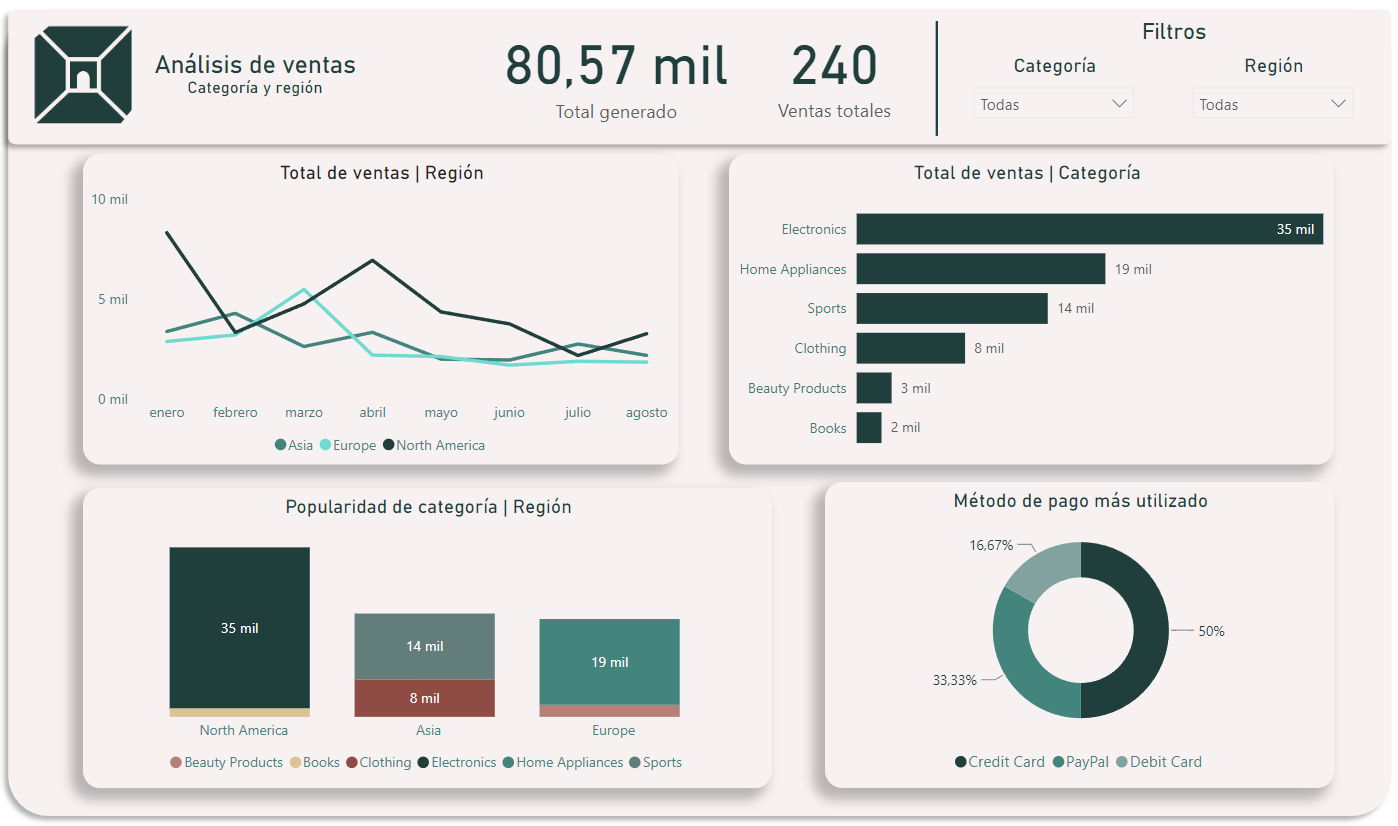

This screenshot's page, from the dashboard's own definition file:
{"tool":"powerbi","page":{"name":"Página 1","canvas":[1280,720],"ordinal":0},"visuals":[{"type":"shape","box":[59,0,1221,719.4],"z":0},{"type":"lineChart","title":"Total de ventas | Región","fields":{"Y":["Sum(public Sales.Total Revenue)"],"Category":["public Sales.Date.Variación.Jerarquía de fechas.Mes"],"Series":["public Sales.Region"]},"box":[133,135,518,270],"z":1000},{"type":"shape","box":[59.3,0,1220.7,135.2],"z":2000},{"type":"image","box":[77.9,12,110.9,110.9],"z":3000},{"type":"barChart","title":"Total de ventas | Categoría","fields":{"Category":["public Sales.Product Category"],"Y":["Sum(public Sales.Total Revenue)"]},"box":[695,135,526,270],"z":4000},{"type":"slicer","title":"Región","fields":{"Values":["public Sales.Region"]},"box":[1082.2,42,171.9,73.9],"z":5000},{"type":"slicer","title":"Categoría","fields":{"Values":["public Sales.Product Category"]},"box":[891.3,42,171.9,73.9],"z":6000},{"type":"shape","box":[860.3,19,31,99.9],"z":7000},{"type":"textbox","box":[1028.2,12,107.9,42],"z":8000},{"type":"card","title":"Ventas totales","fields":{"Values":["CountNonNull(public Sales.Transaction ID)"]},"box":[713.4,19,146.9,89.9],"z":9000},{"type":"card","fields":{"Values":["Sum(public Sales.Total Revenue)"]},"box":[491.1,15.6,211.1,97.8],"z":10000},{"type":"columnChart","title":"Popularidad de categoría | Región","fields":{"Category":["public Sales.Region"],"Series":["public Sales.Product Category"],"Y":["Sum(public Sales.Total Revenue)"]},"box":[133,425,599,261],"z":11000},{"type":"textbox","box":[189,39,188,57],"z":12000},{"type":"donutChart","title":"Método de pago más utilizado","fields":{"Category":["public Sales.Payment Method"],"Y":["CountNonNull(public Sales.Payment Method)"]},"box":[778,420,443,266],"z":12001}]}

Visuals, with their boxes on the page's 1280x720 design canvas (x1, y1, x2, y2). These are canvas units, not pixel positions in the 1398x826 screenshot, which may show the page scaled, cropped or inside an application window:
shape: 59, 0, 1280, 719
"Total de ventas | Región" lineChart: 133, 135, 651, 405
shape: 59, 0, 1280, 135
image: 78, 12, 189, 123
"Total de ventas | Categoría" barChart: 695, 135, 1221, 405
"Región" slicer: 1082, 42, 1254, 116
"Categoría" slicer: 891, 42, 1063, 116
shape: 860, 19, 891, 119
textbox: 1028, 12, 1136, 54
"Ventas totales" card: 713, 19, 860, 109
card - Sum(public Sales.Total Revenue): 491, 16, 702, 113
"Popularidad de categoría | Región" columnChart: 133, 425, 732, 686
textbox: 189, 39, 377, 96
"Método de pago más utilizado" donutChart: 778, 420, 1221, 686
